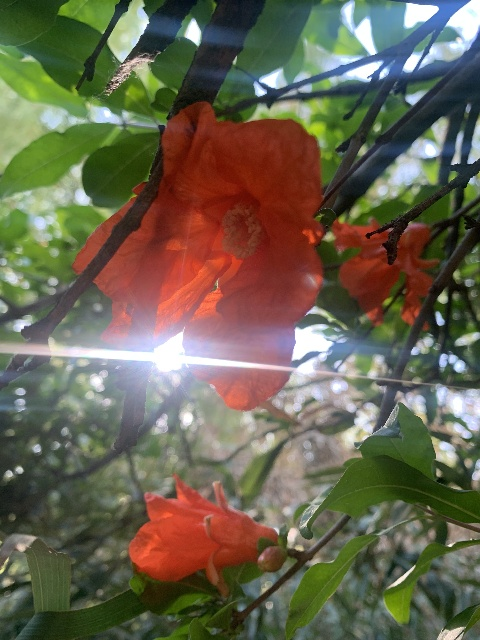bud: (257, 544, 285, 573)
flower: (70, 97, 326, 410), (127, 472, 278, 598), (332, 217, 439, 328)
